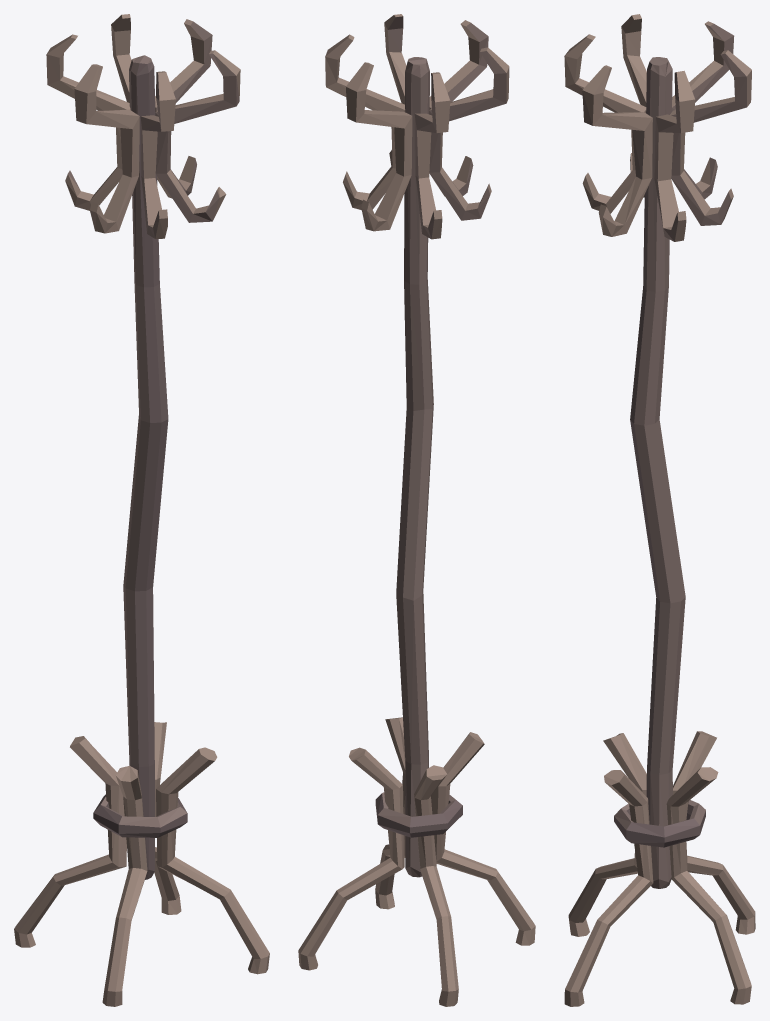
Rendered from coatrack.fbx.
3 renders of one model, left to right at view 1: azimuth 30°, elevation 25°; view 2: azimuth 150°, elevation 25°; view 3: azimuth 270°, elevation 25°, orthographic.
Visible parts, largest first — view 1: coatrack; view 2: coatrack; view 3: coatrack.
Boxes of the visible parts, <box> form: coatrack: <box>14,14,269,1006</box>; coatrack: <box>298,14,535,1006</box>; coatrack: <box>564,14,755,1006</box>.
Size of the model in its own units: 31.2 by 163 by 30.62.
